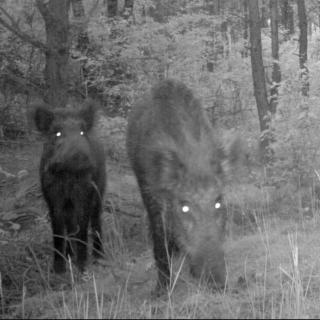Pig: (130, 87, 242, 303), (34, 96, 110, 286)
